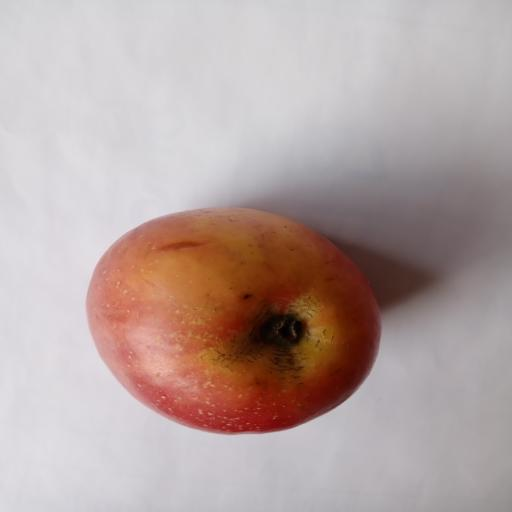apple-ripe: (73, 200, 391, 447)
